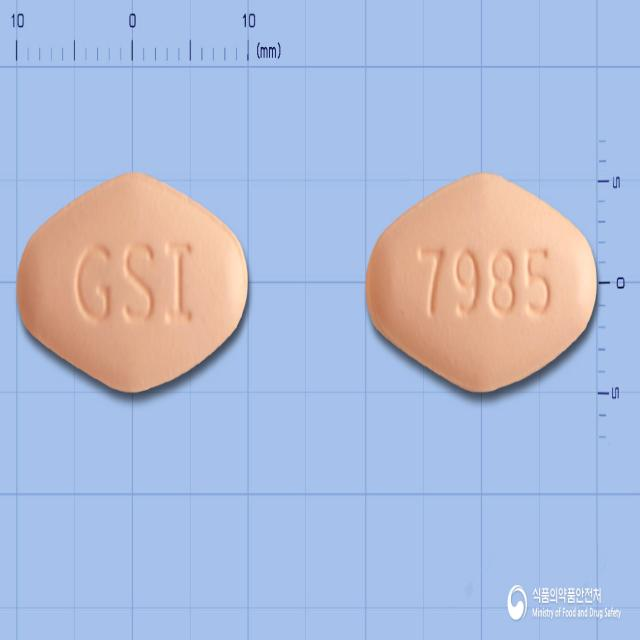Claxin - 500mg: (365, 171, 598, 393), (17, 172, 249, 394)
